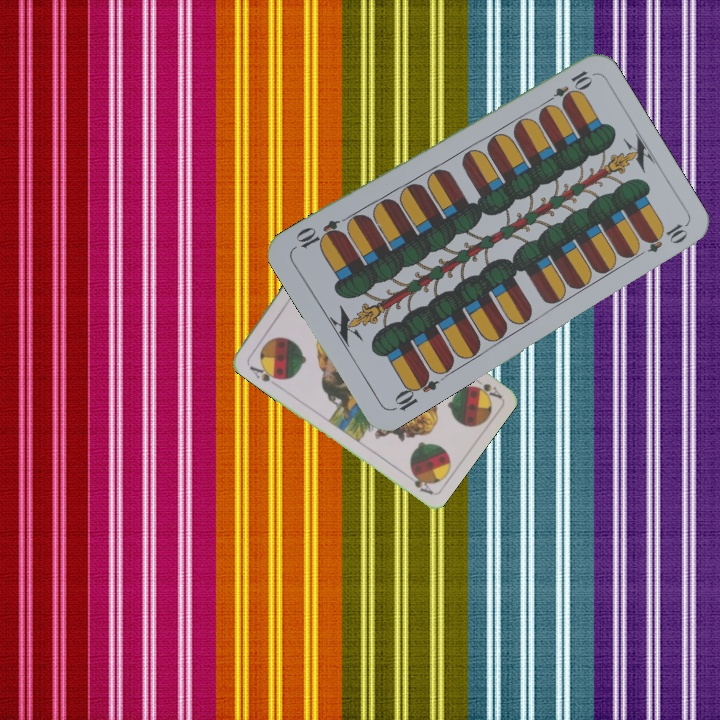E10: (388, 368, 441, 414), (540, 66, 594, 109)
SA: (245, 361, 282, 388), (467, 379, 503, 402)
